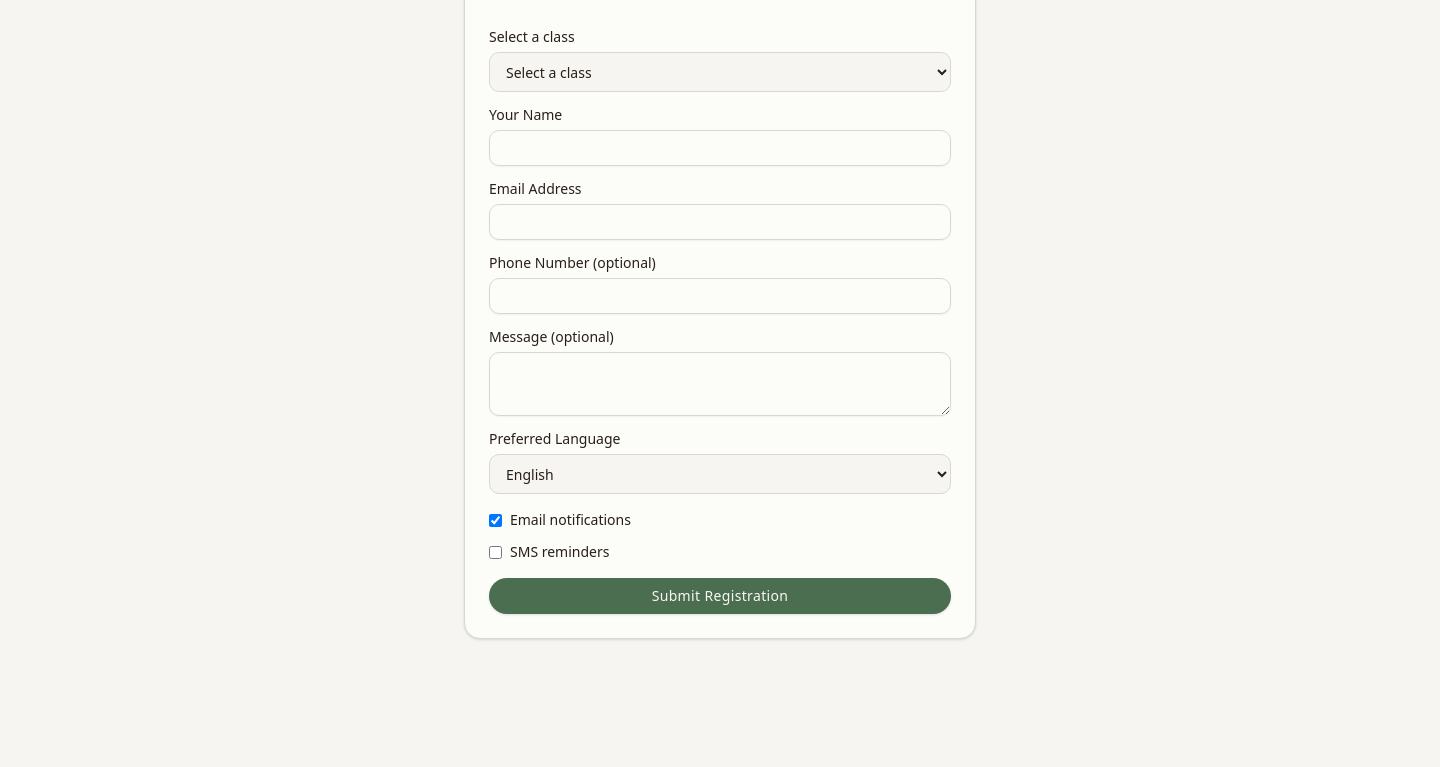
Test case: RegistrationForm - Consent Flow › Consent Warning and Modal › should enable submit after signing waiver in modal
This screenshot has width=1440, height=767.
In the field labelled "Your Name": x=720, y=148 [489, 130, 951, 166], type "John Doe"
Select "Morning Hatha - Free" in the dropdown labelled "Select a class": x=720, y=72 [489, 52, 951, 92]
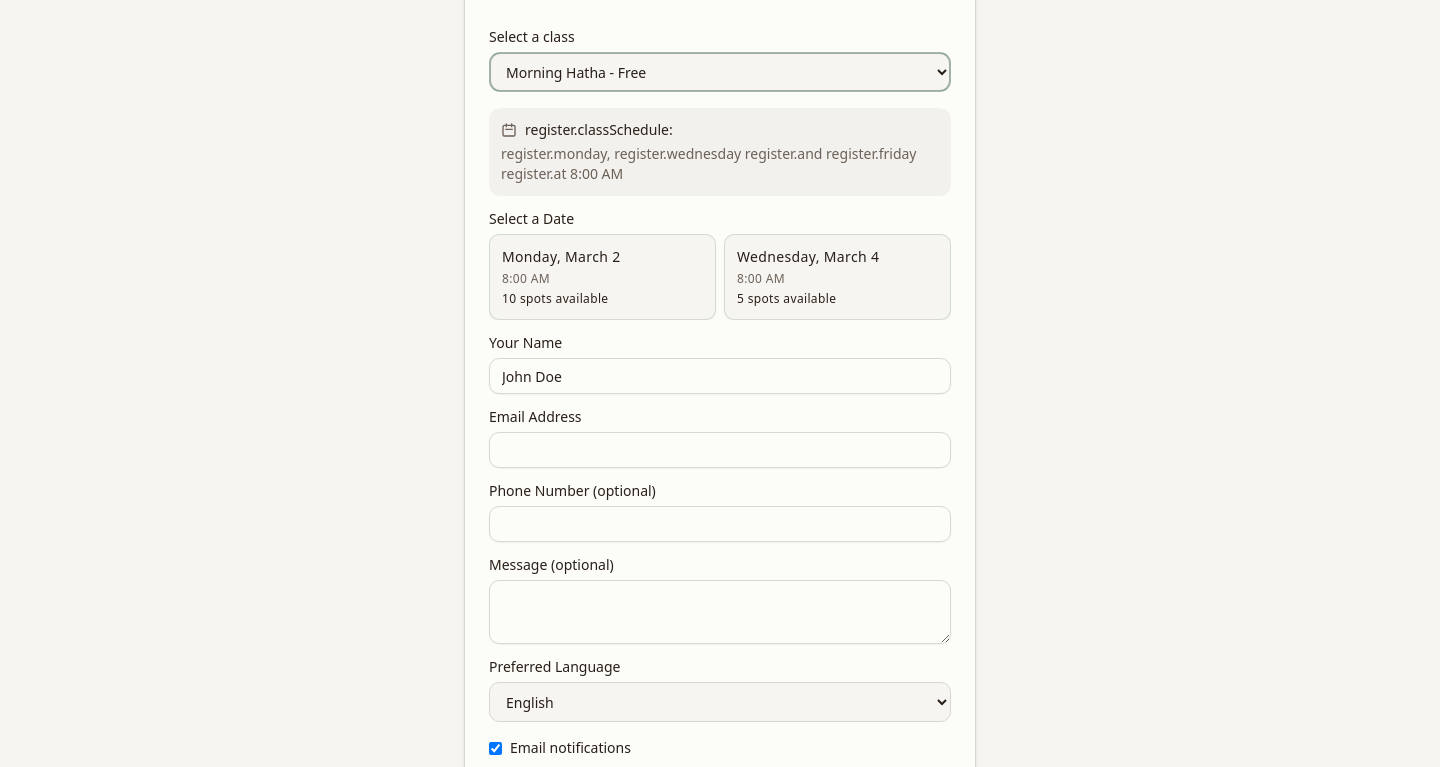
In the field labelled "Email Address": x=720, y=450 [489, 432, 951, 468], type "john@example.com"
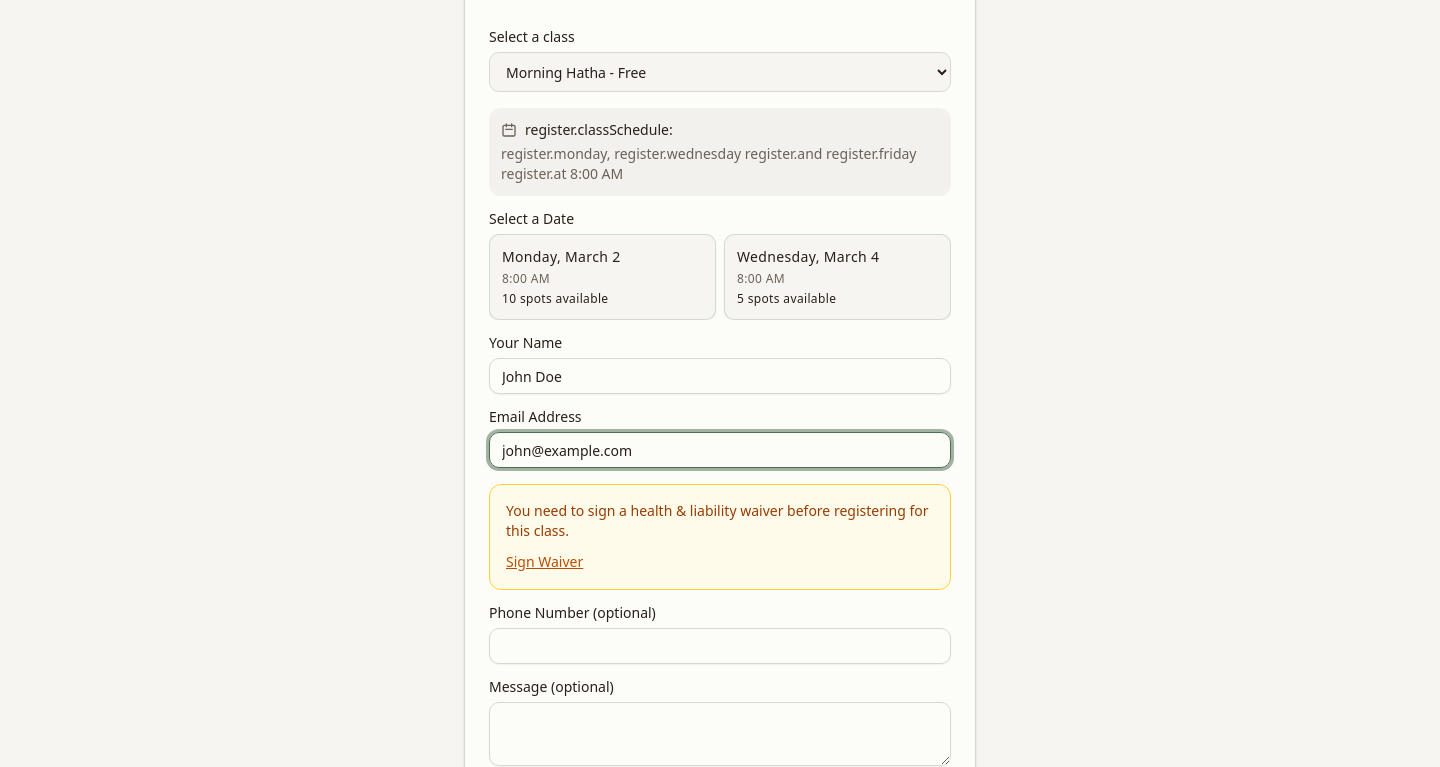
Click the button "Sign Waiver": x=545, y=562 [506, 552, 583, 572]
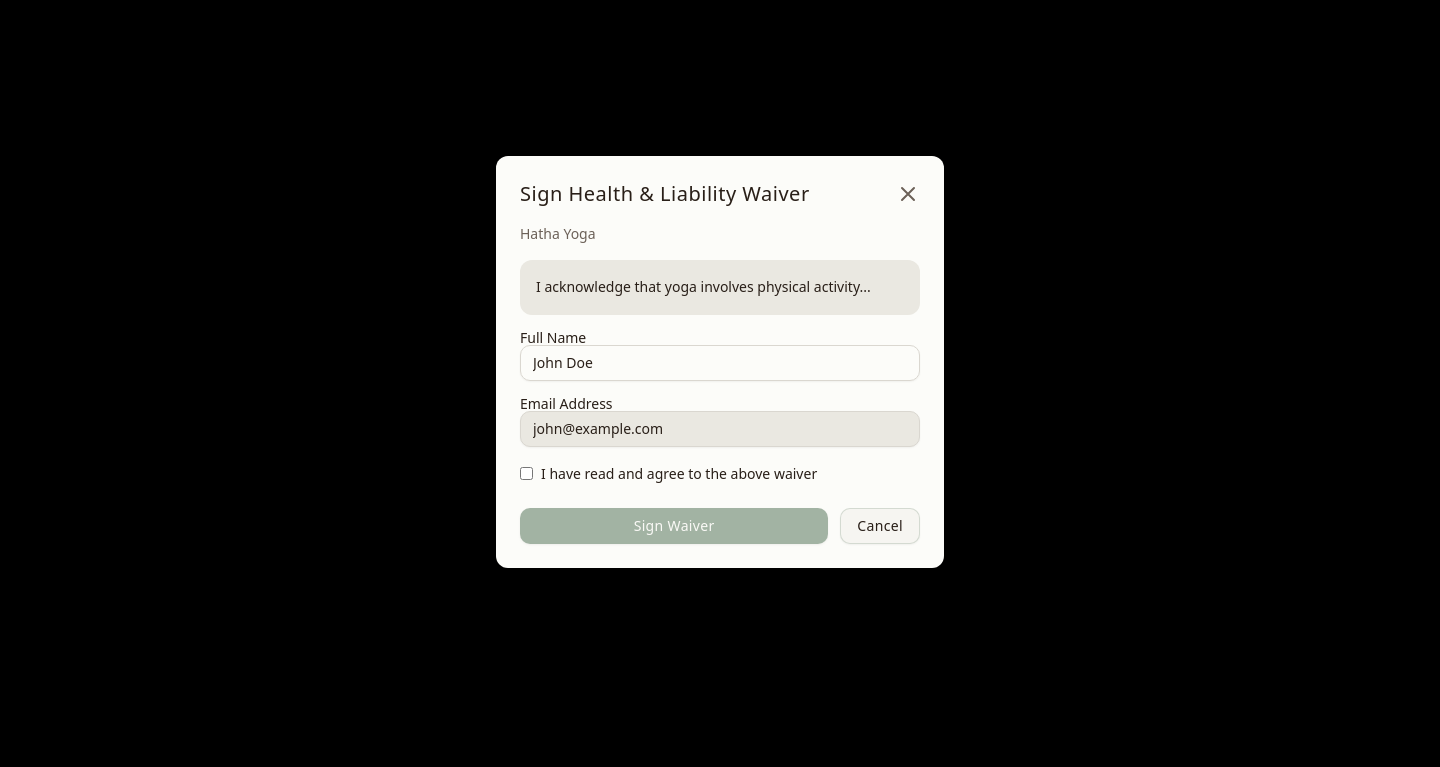
Result: the heading "Sign Health & Liability Waiver" is shown at [520, 180, 810, 208]
Click the checkbox labelled "I have read and agree to the above waiver": x=526, y=473 [520, 467, 533, 480]
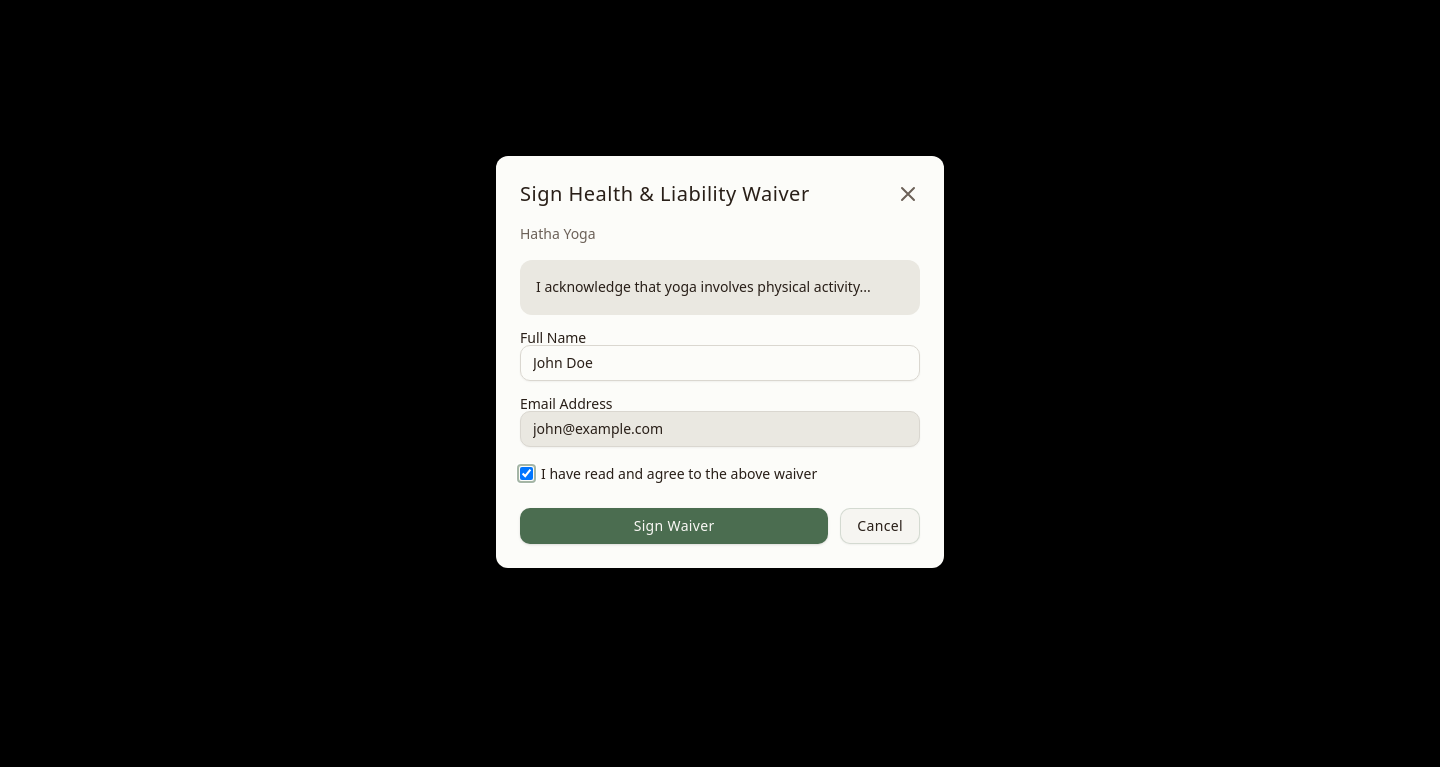
Click the submit button: x=674, y=526 [520, 508, 828, 544]
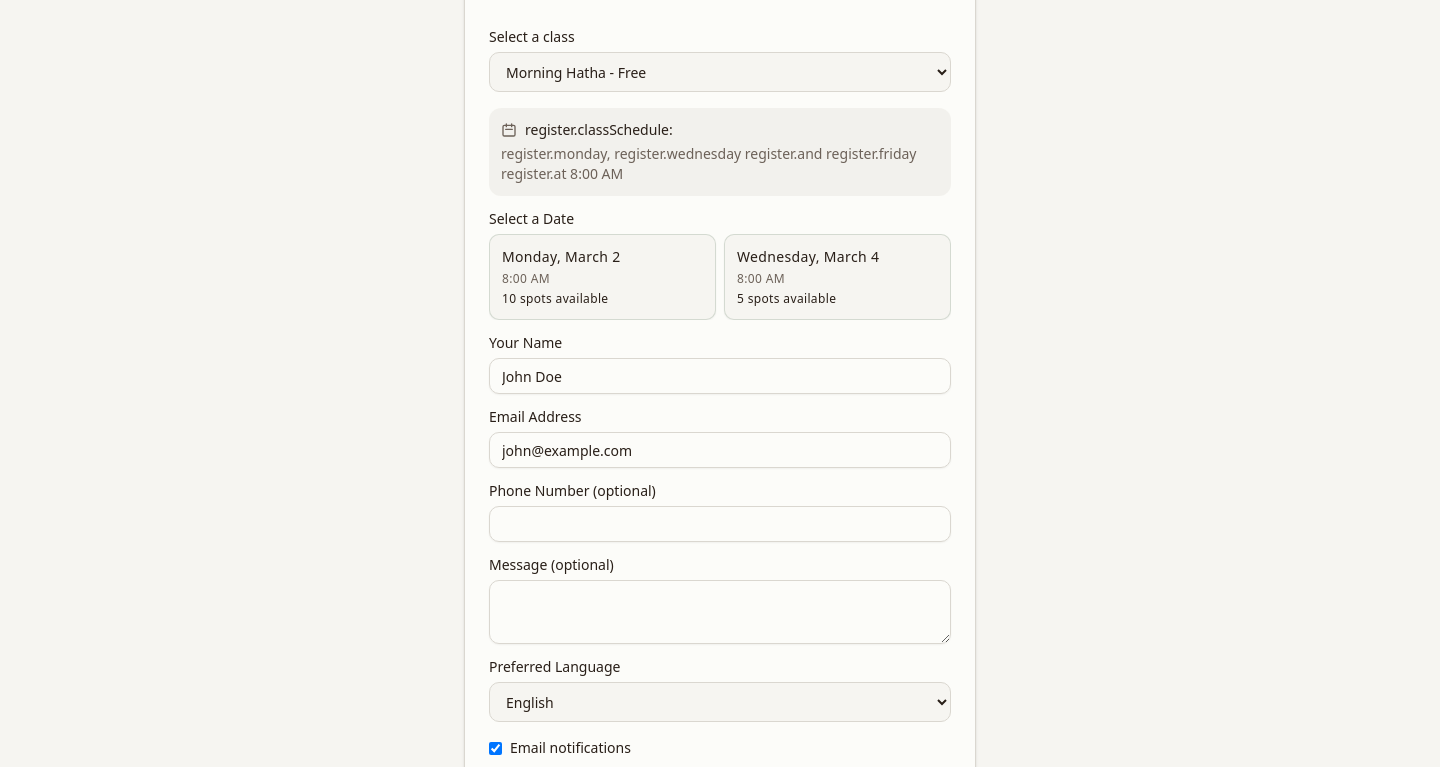
Click the text "Monday, March 2": x=561, y=257 [502, 247, 621, 267]
(page scrolled)
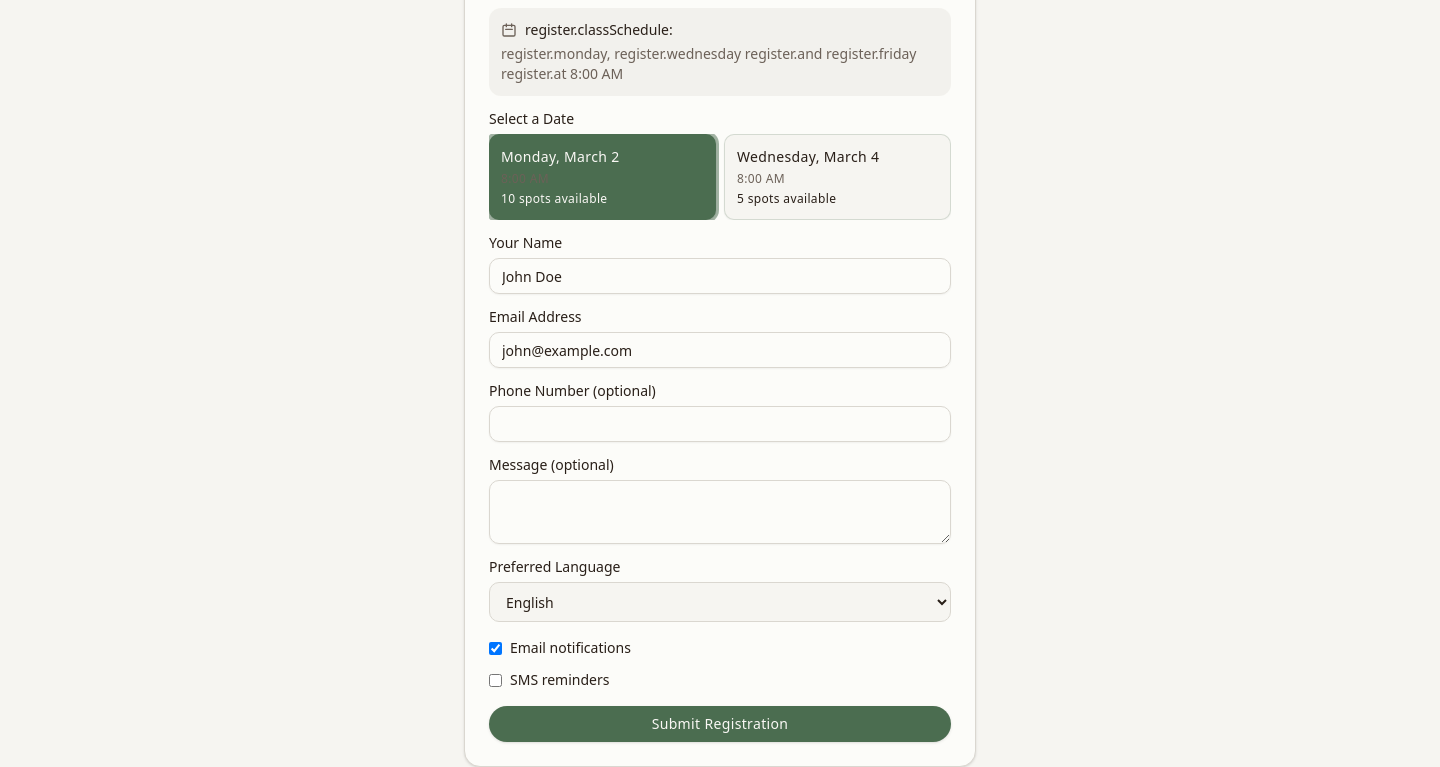
Result: the button "Submit Registration" is enabled at [489, 706, 951, 742]
